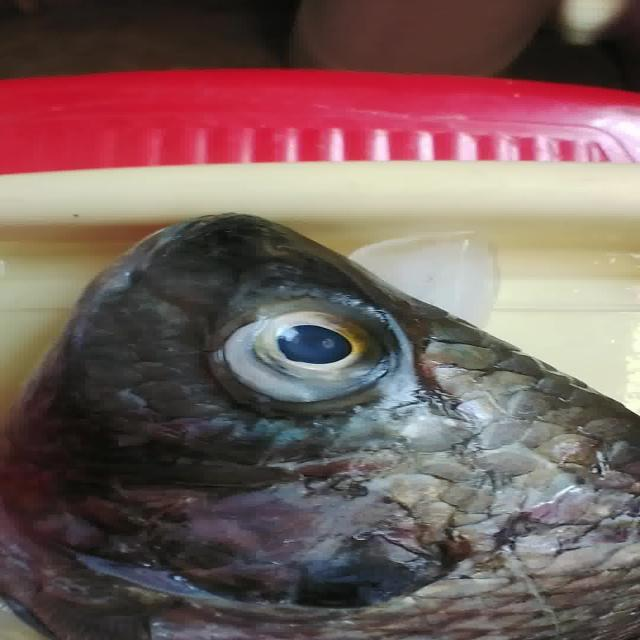Fresh: (208, 290, 404, 407)
